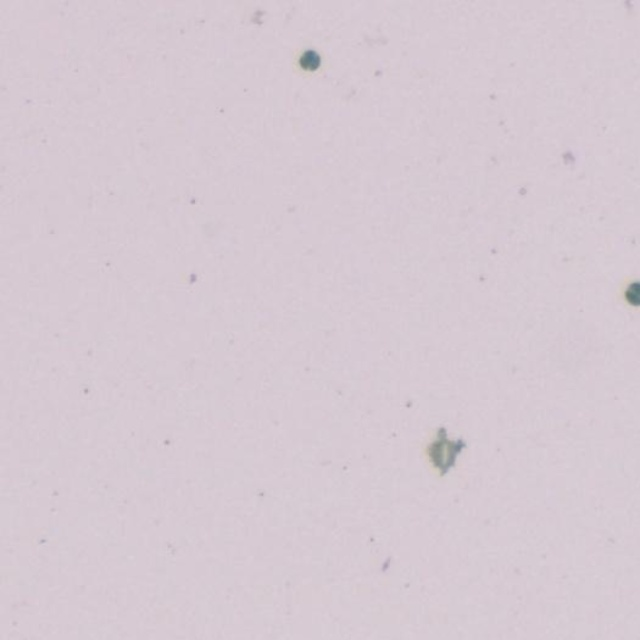non_viable: (299, 49, 321, 71), (624, 282, 640, 306)
